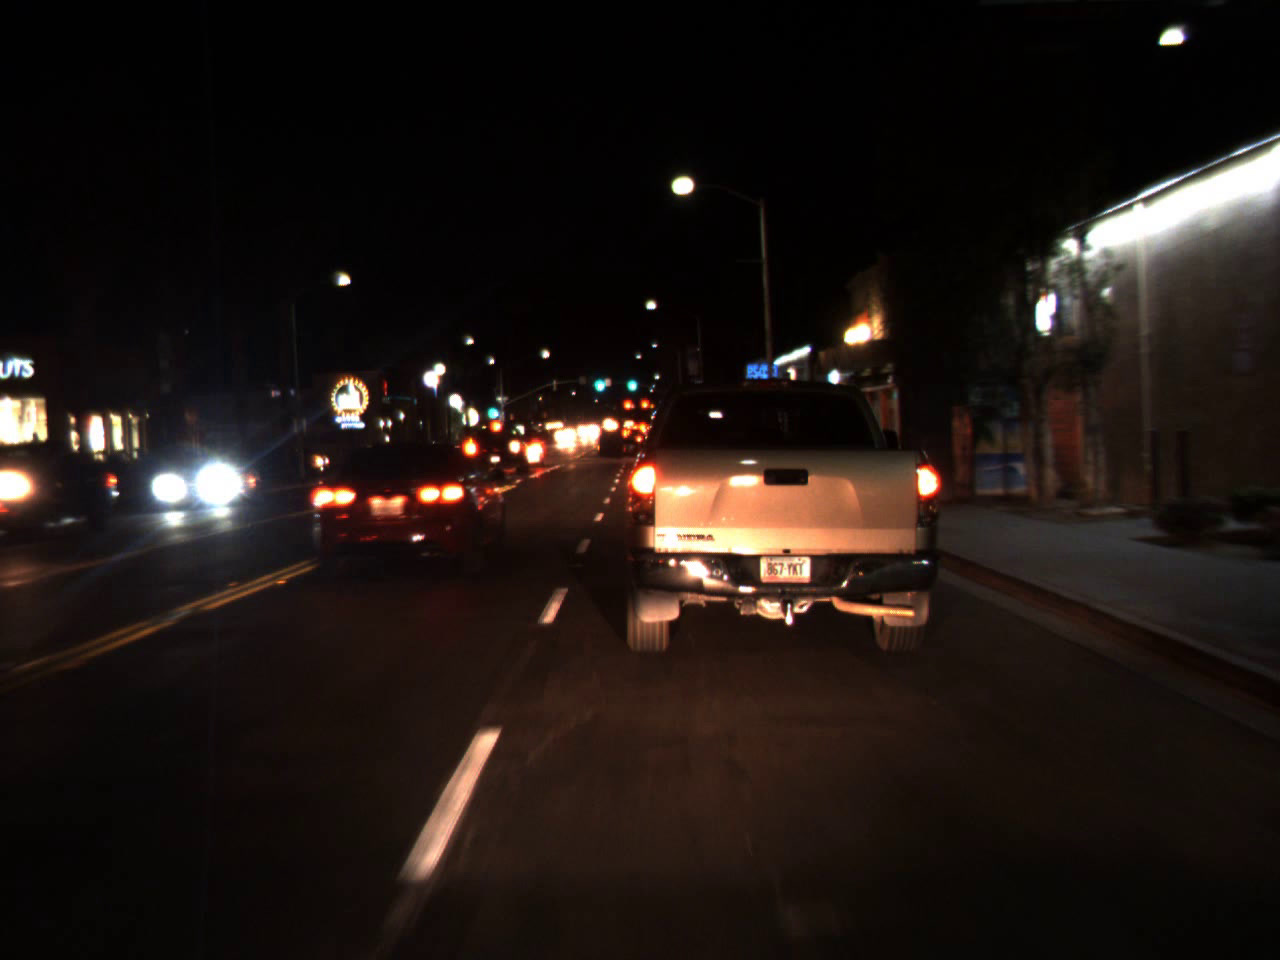go: (589, 363, 608, 396), (483, 393, 501, 423), (624, 367, 638, 394)
